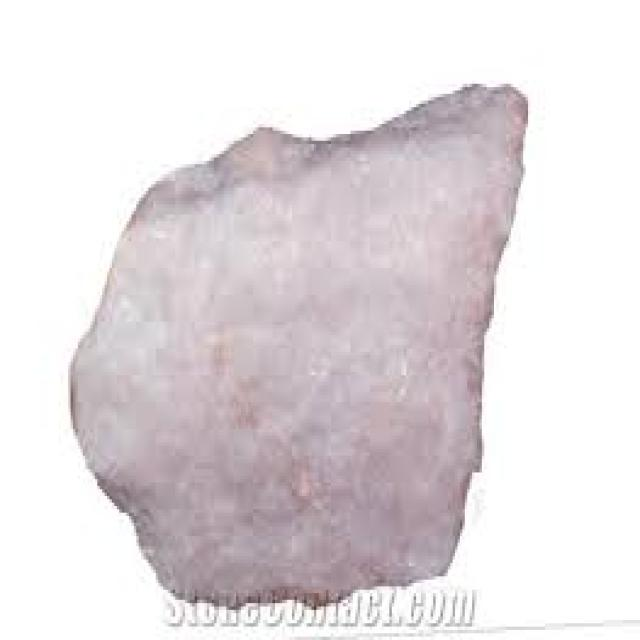Metamorphic: (80, 74, 526, 576)
